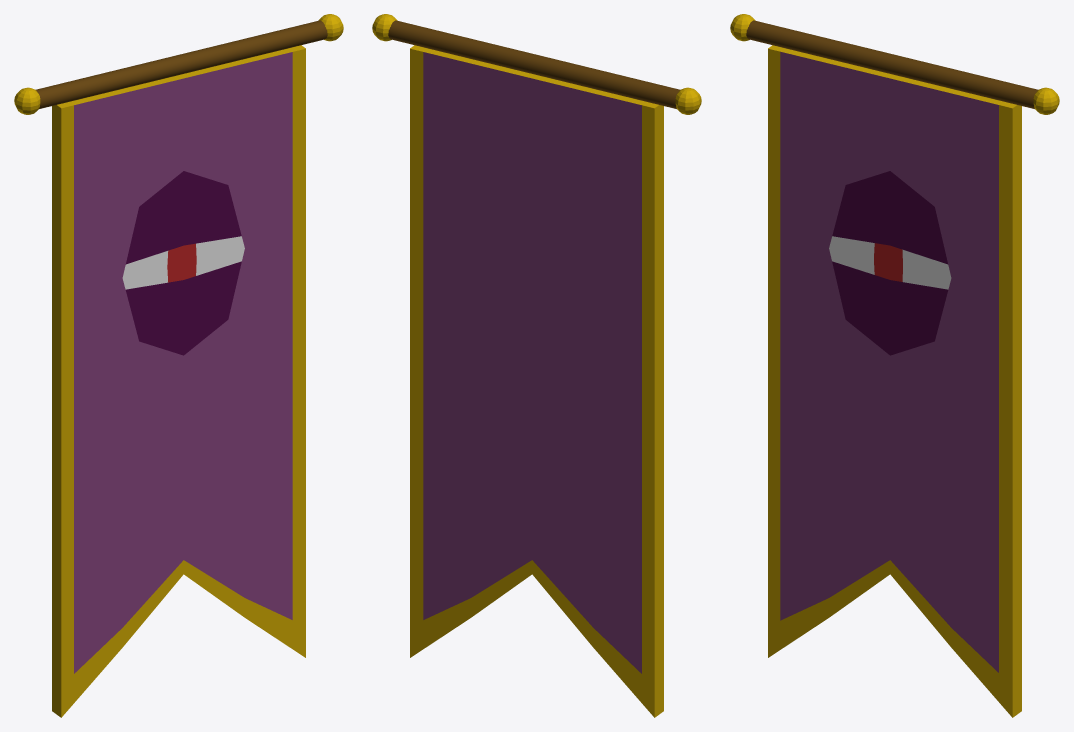
The model's file is Banner.fbx.
3 views of the same model, side by side, from view 1: azimuth 30°, elevation 25°; view 2: azimuth 150°, elevation 25°; view 3: azimuth 330°, elevation 25° (orthographic).
Visible parts, largest first — view 1: Banner; view 2: Banner; view 3: Banner.
Part boxes in pixels (left/top/right/bottom): Banner: left=14, top=14, right=343, bottom=717; Banner: left=372, top=14, right=701, bottom=717; Banner: left=730, top=14, right=1059, bottom=717.
Size of the model in its own units: 9.54 by 17.7 by 0.6652.
